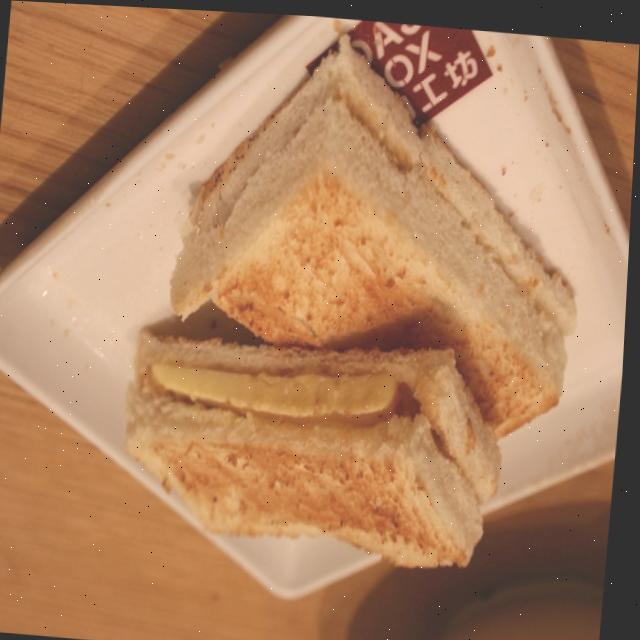面包点心: (40, 12, 633, 640)
